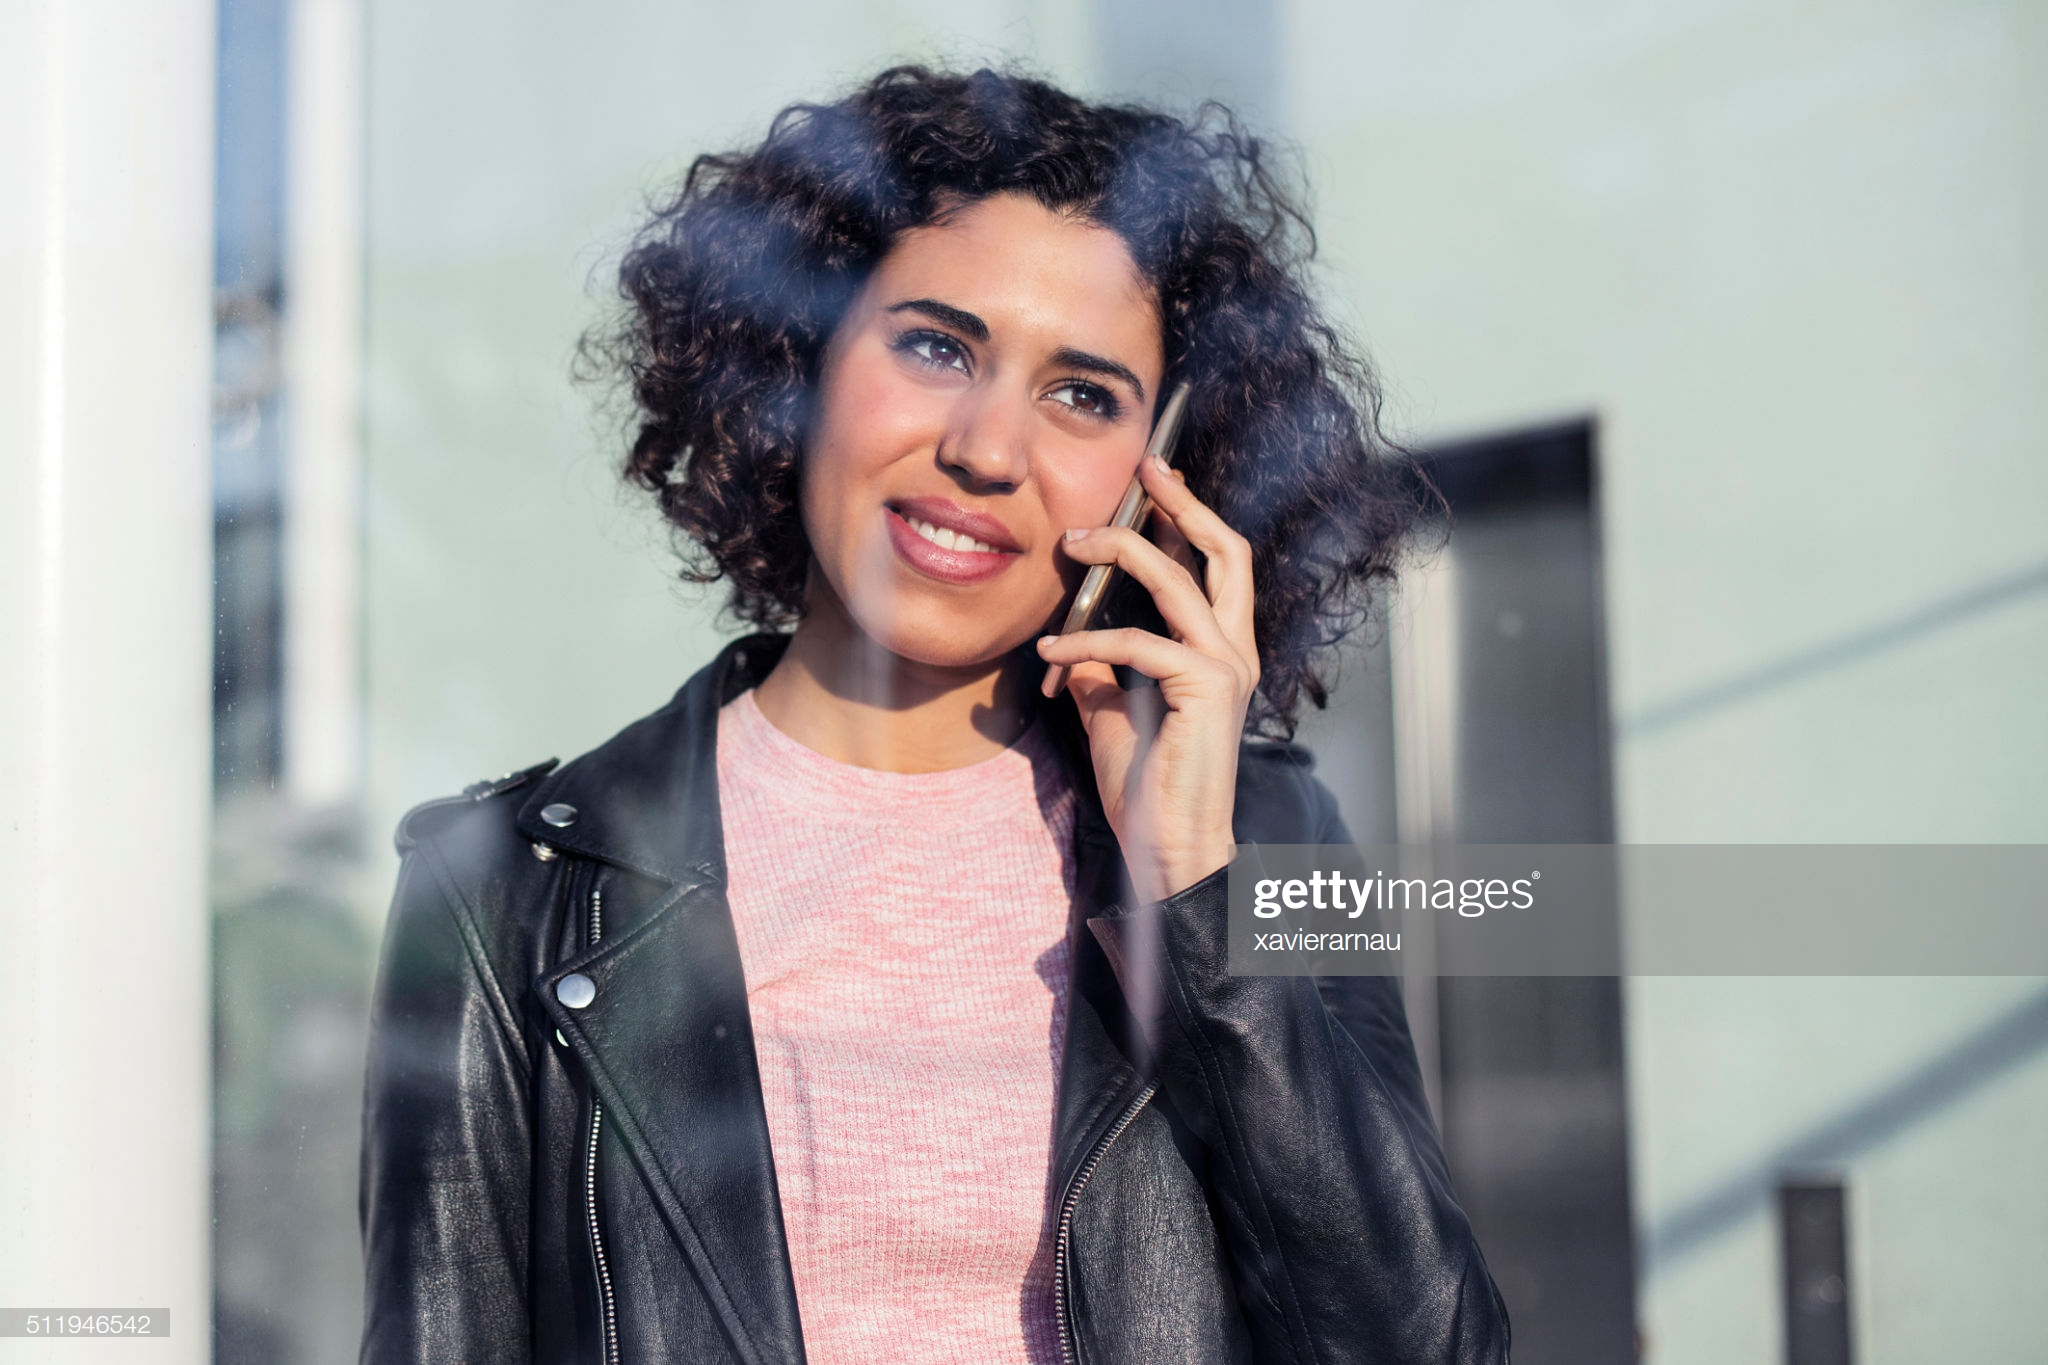phone: (1051, 353, 1211, 692)
talk: (807, 276, 1290, 798)
